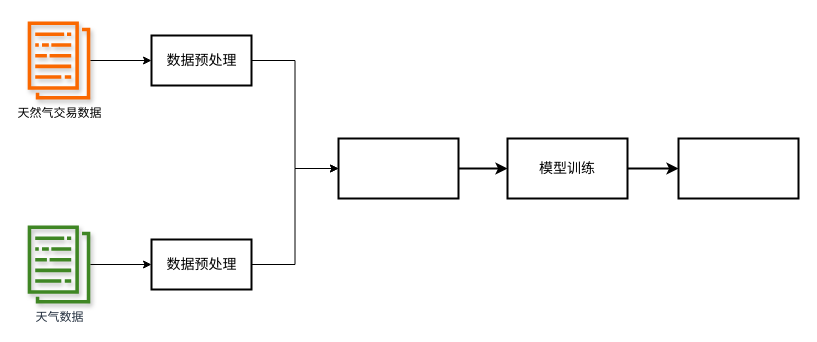
This 817x342 diagram has some shape labels left out. The shapes that lost their labels are listed below. From the top down, each one's centre as x and y in pixels, then its label:
At pixel 398 168: "特征构建".
At pixel 738 168: "聚类结果可视化".
